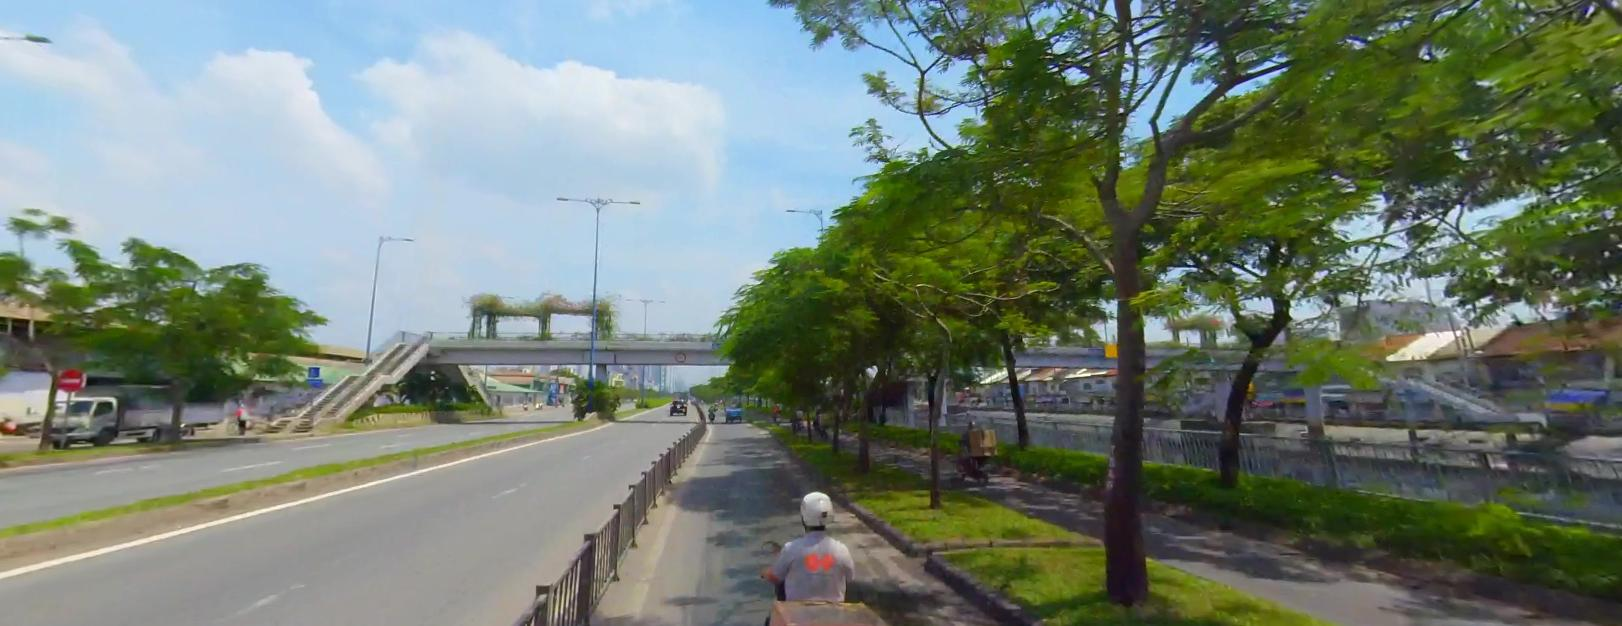Cam con lai: (675, 351, 684, 359)
Cam nguoc chieu: (58, 367, 83, 390)
